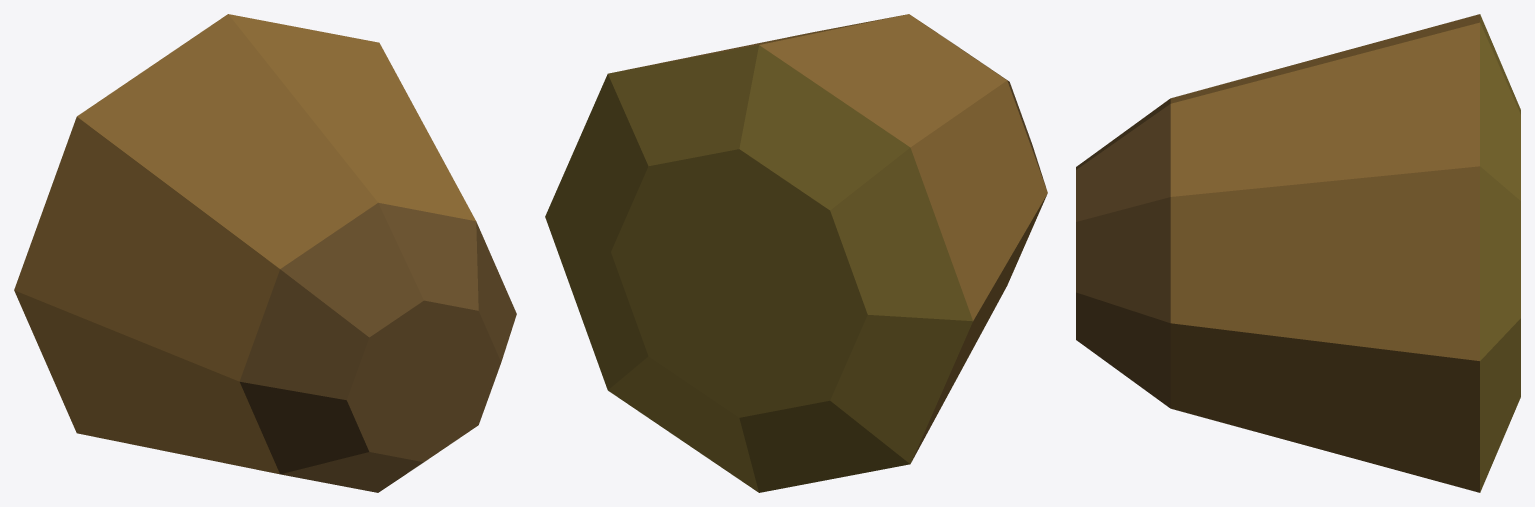
File: PalmPart.fbx
The picture shows the model from 3 angles, left to right: view 1: azimuth 30°, elevation 25°; view 2: azimuth 150°, elevation 25°; view 3: azimuth 270°, elevation 25°; orthographic projection. The views are drawn at different scales.
Visible parts, largest first — view 1: Cube; view 2: Cube; view 3: Cube.
Part boxes in pixels (x1=…): Cube: x1=14, y1=14, x2=516, y2=492; Cube: x1=545, y1=14, x2=1047, y2=492; Cube: x1=1076, y1=14, x2=1520, y2=492.
Size of the model in its own units: 200 by 200 by 175.
